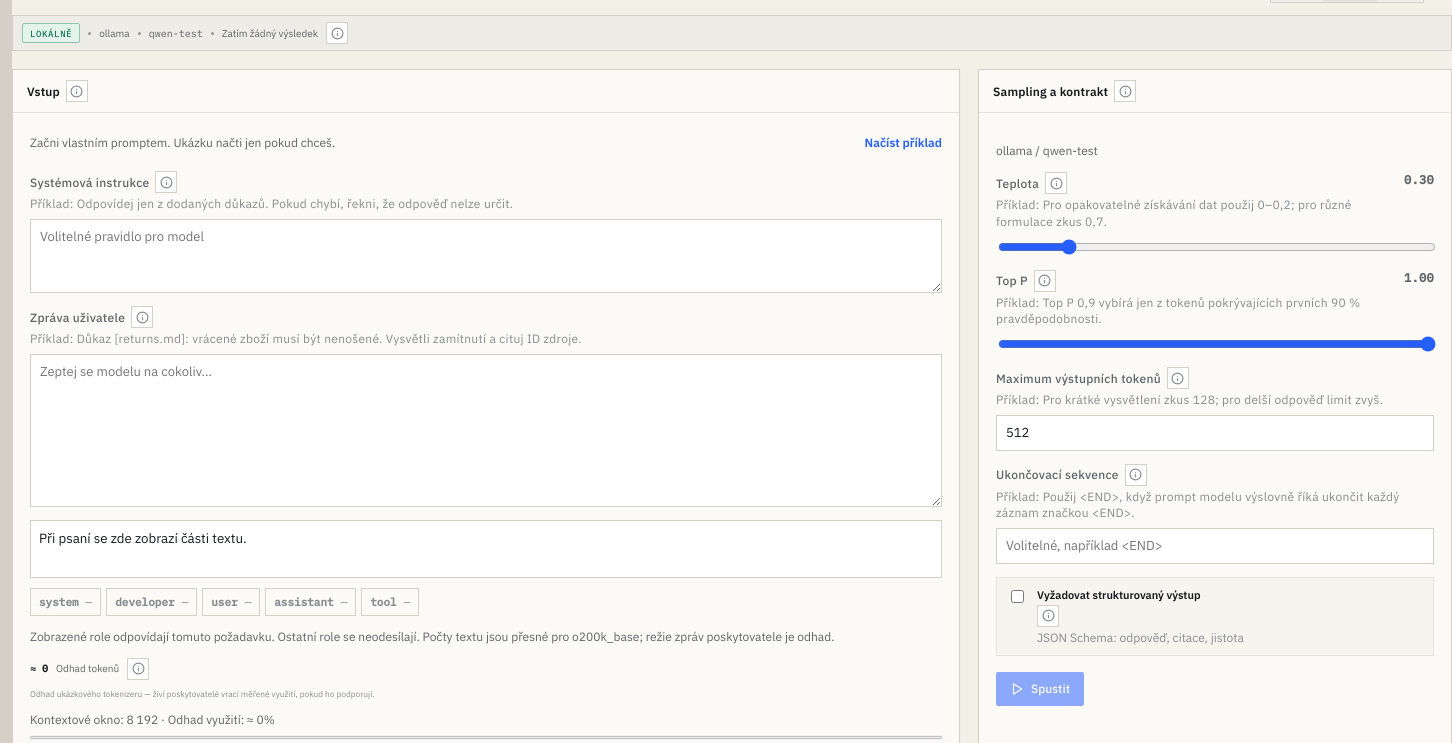
Test: PromptTokensPage › asks the schema evaluator rather than treating any JSON object as valid
This screenshot has width=1452, height=743.
Expected: the text "ollama / qwen-test" is shown, [996, 143, 1098, 158]
Type "Odpověz jako JSON." into the text box with placeholder "Zeptej se modelu na cokoliv…". click: (486, 430)
box: [30, 354, 942, 507]
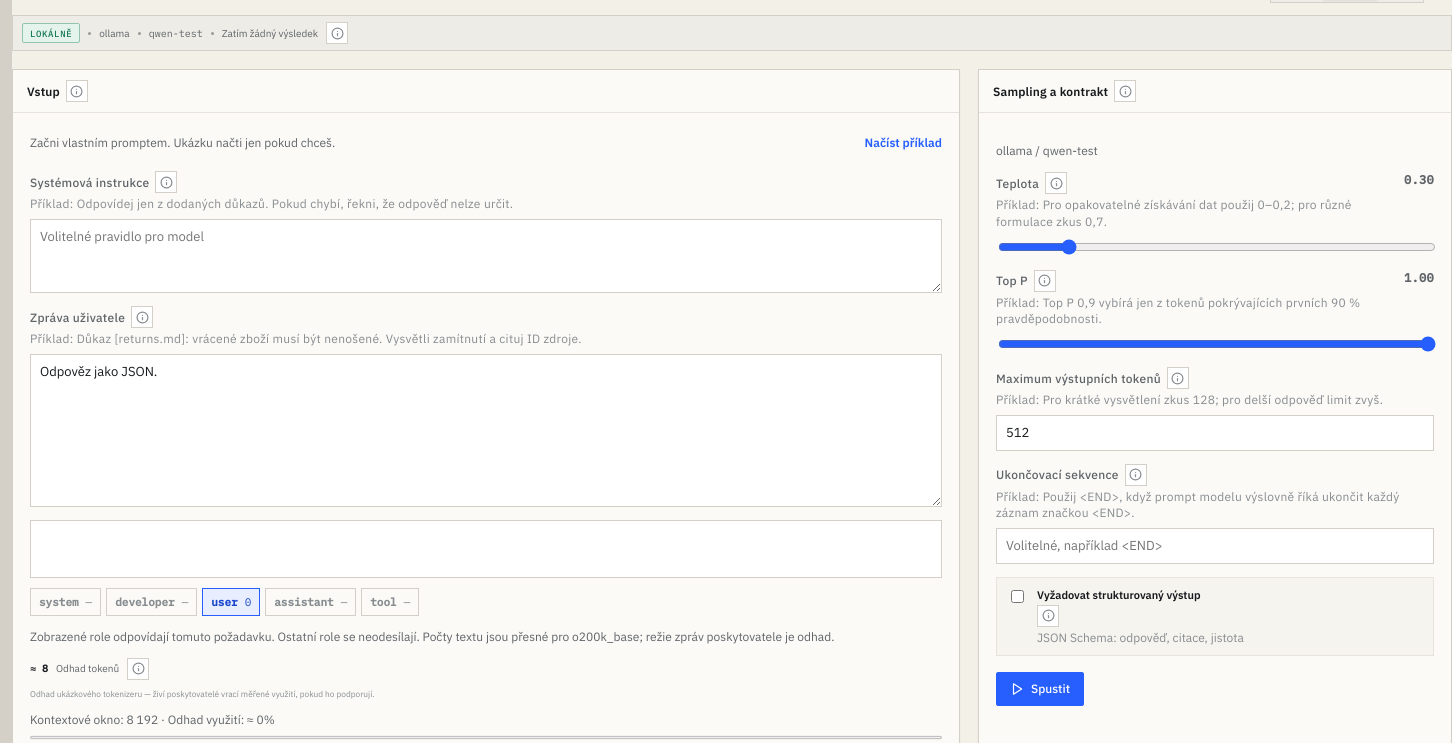
Click the checkbox labelled "Vyžadovat strukturovaný výstup". click: (1018, 596)
box: [1011, 590, 1024, 603]
(page scrolled)
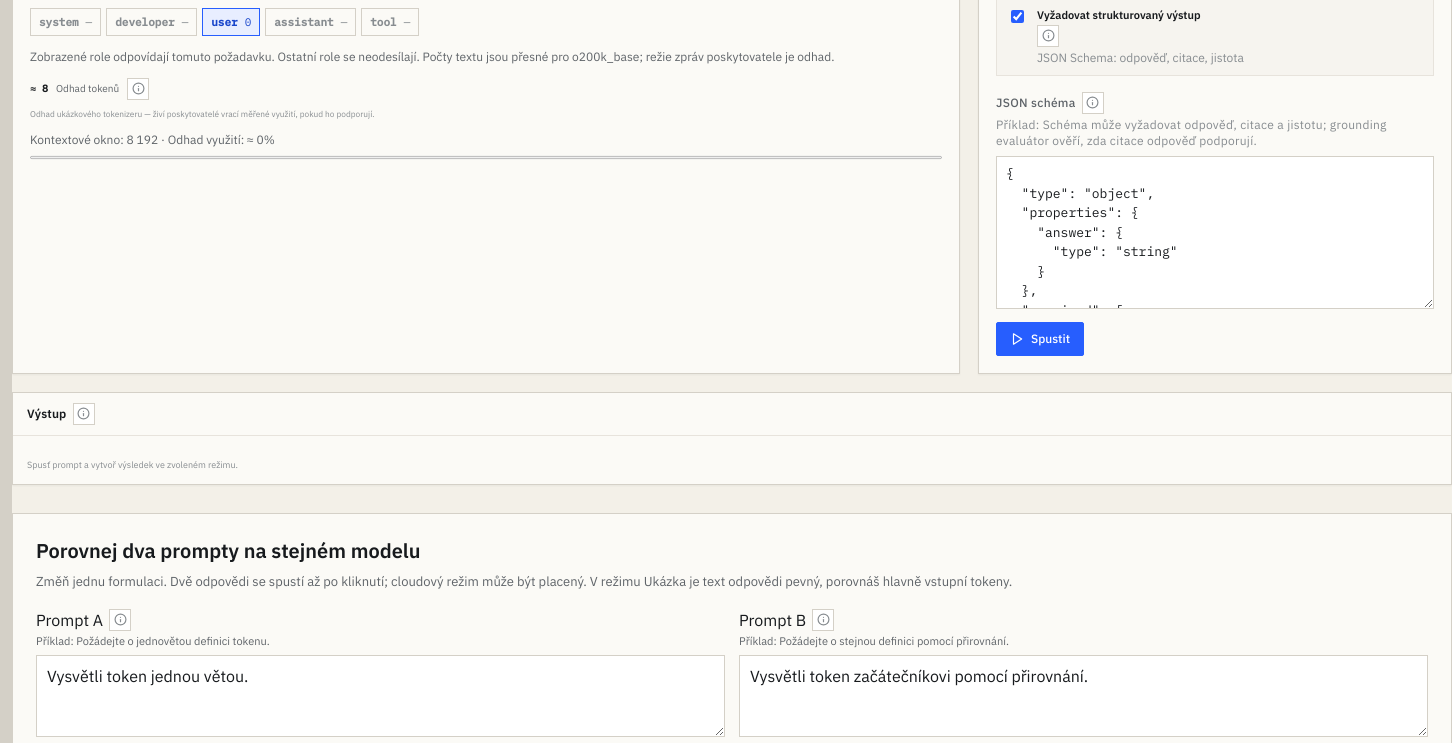
Click the button "Spustit". click: (1040, 339)
box: [996, 322, 1084, 356]
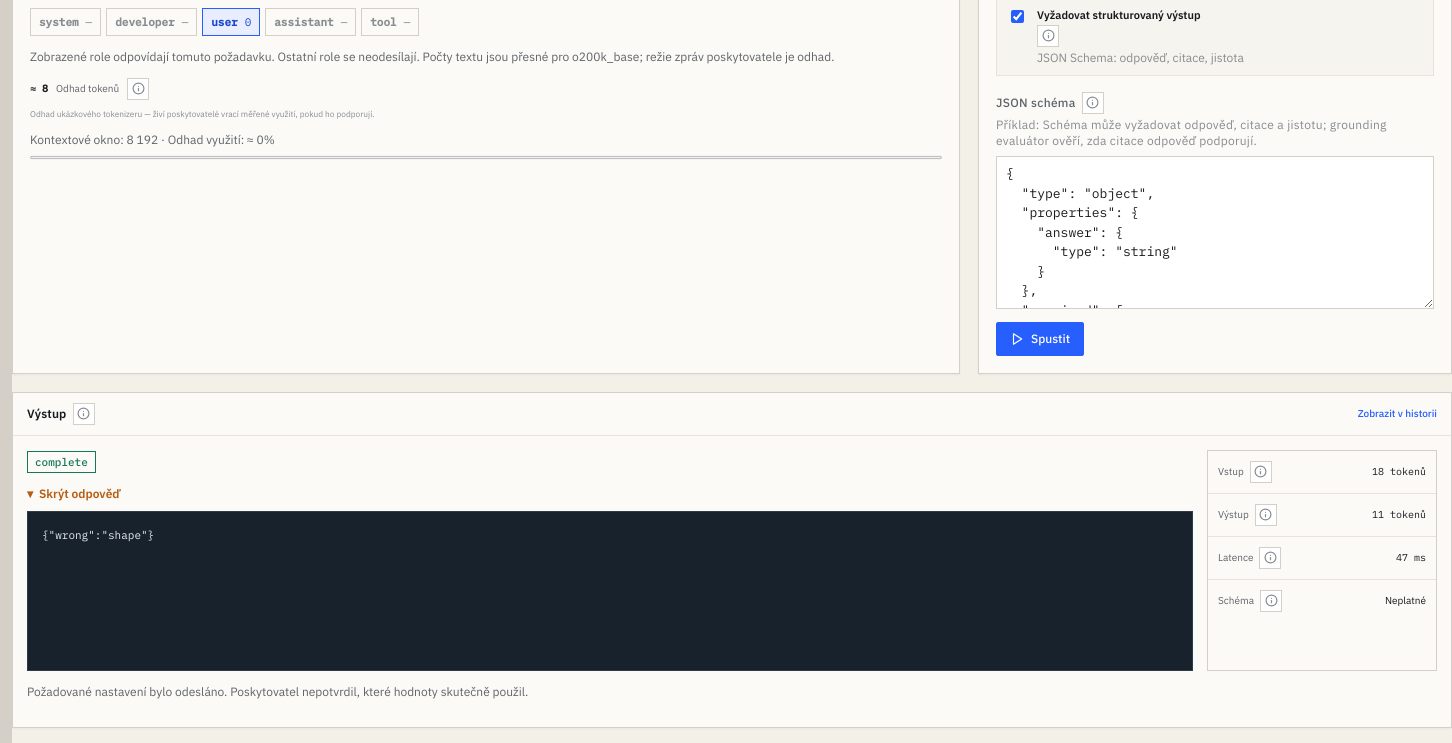
Expected: the text "Neplatné" is shown, [1385, 594, 1426, 607]
